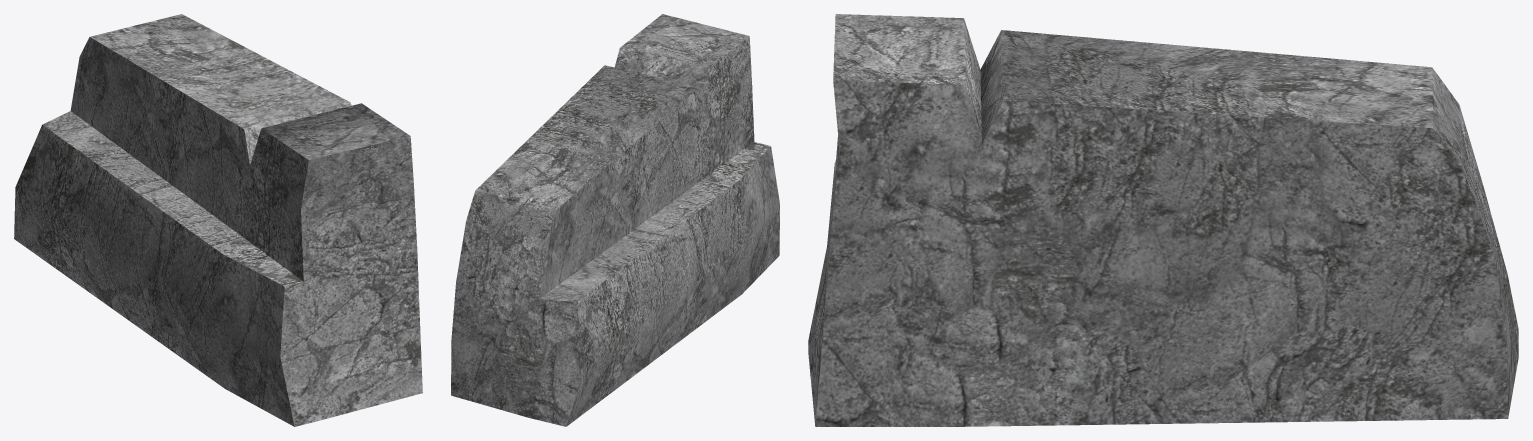
Rendered from materials_3_rubble_10.fbx.
3 renders of one model, left to right at view 1: azimuth 30°, elevation 25°; view 2: azimuth 150°, elevation 25°; view 3: azimuth 270°, elevation 25°, orthographic. The views are drawn at different scales.
Visible parts, largest first — view 1: materials_3_rubble_10; view 2: materials_3_rubble_10; view 3: materials_3_rubble_10.
Part boxes in pixels (x1,y1,x2,y2): materials_3_rubble_10: [14, 14, 422, 426]; materials_3_rubble_10: [451, 14, 779, 426]; materials_3_rubble_10: [808, 14, 1518, 426].
Size of the model in its own units: 39 by 59.41 by 112.
